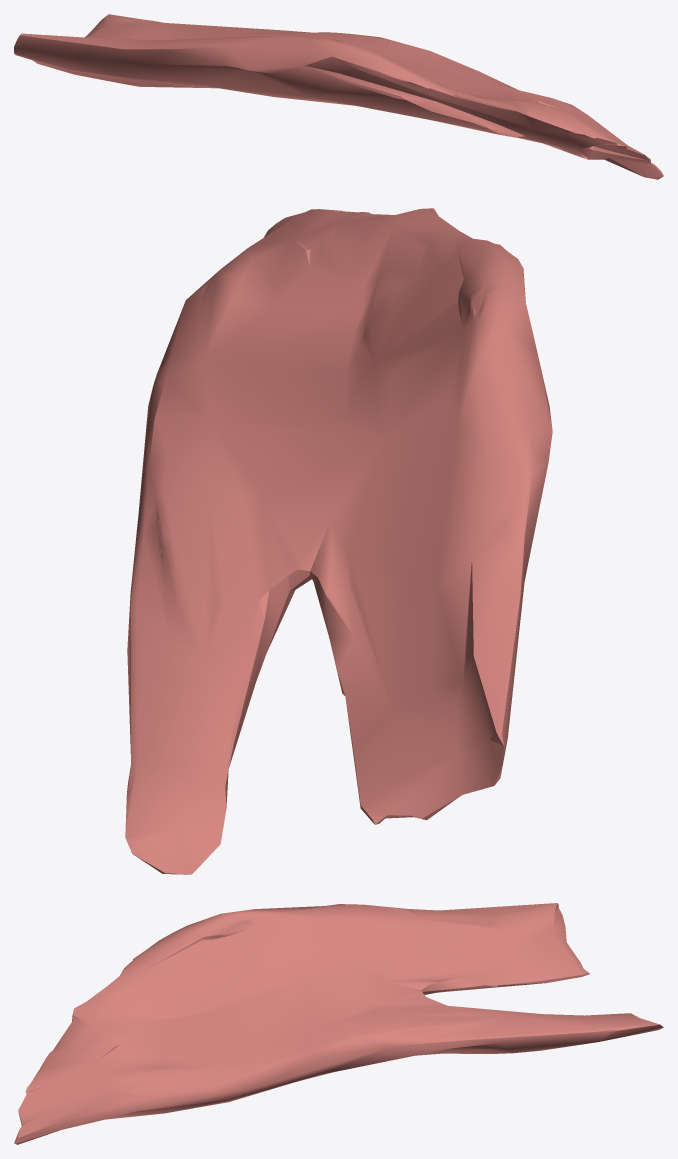
File: fma37466_fj1412m.glb
3 renders of one model, top to bottom at view 1: azimuth 30°, elevation 25°; view 2: azimuth 150°, elevation 25°; view 3: azimuth 270°, elevation 25°, orthographic. The views are drawn at different scales.
Visible parts, largest first — view 1: FMA37466_FJ1412M; view 2: FMA37466_FJ1412M; view 3: FMA37466_FJ1412M.
Boxes of the visible parts, x1,y1,x2,y2 form: FMA37466_FJ1412M: [14, 14, 663, 179]; FMA37466_FJ1412M: [125, 208, 552, 874]; FMA37466_FJ1412M: [14, 903, 663, 1144].
Size of the model in its own units: 0.0491 by 0.016 by 0.0687.
